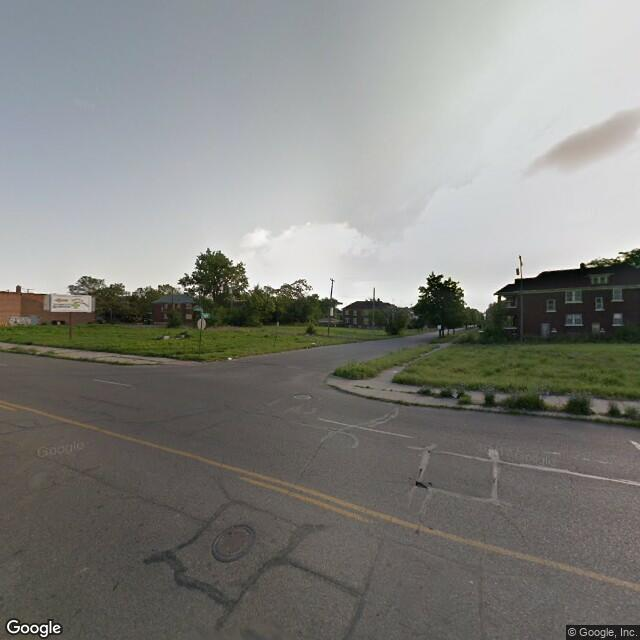litter: (226, 354, 233, 361), (311, 341, 317, 344)
